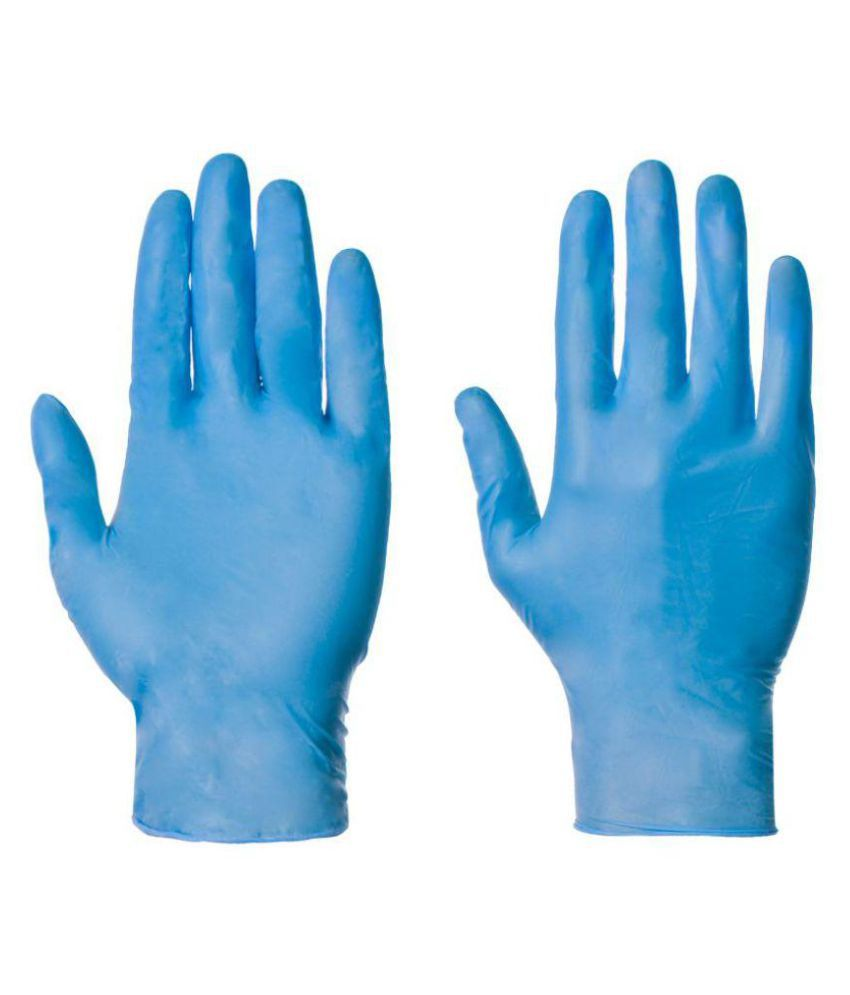Gloves: (448, 148, 835, 865), (25, 145, 408, 855)
